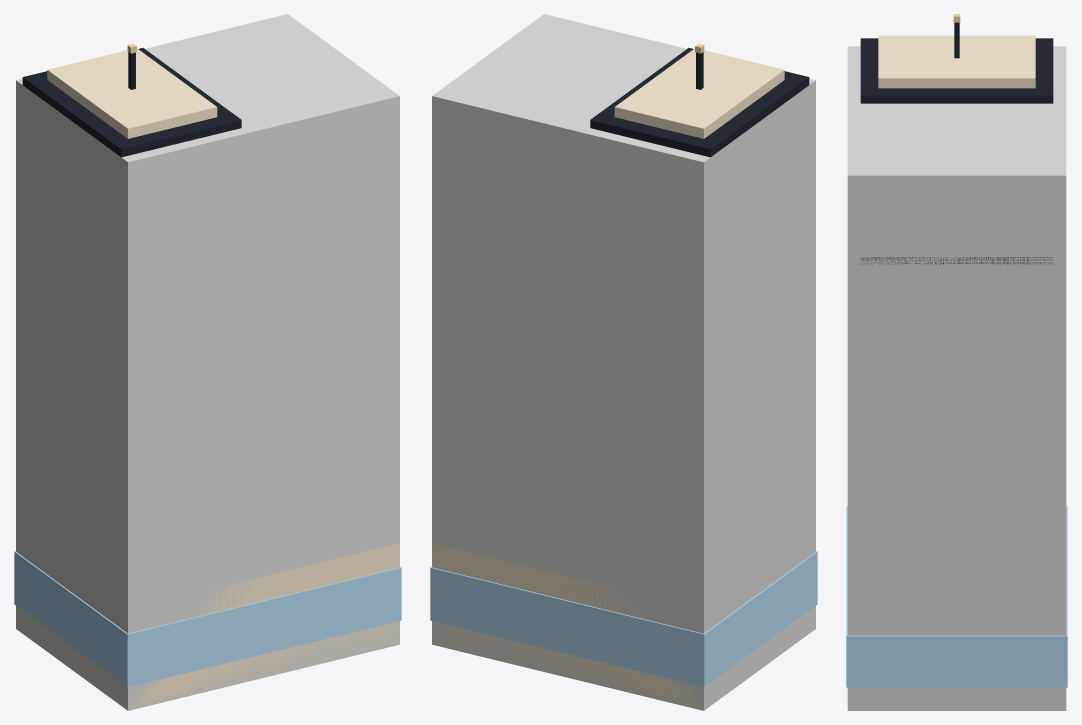
The model's file is skyline-twin.glb.
The picture shows the model from 3 angles, left to right: view 1: azimuth 30°, elevation 25°; view 2: azimuth 150°, elevation 25°; view 3: azimuth 270°, elevation 25°; orthographic projection. The views are drawn at different scales.
Visible parts, largest first — view 1: COL_body, skyline-twin; view 2: COL_body, skyline-twin; view 3: COL_body, skyline-twin.
Part boxes in pixels (box(x1,y1,x2,y2)): COL_body: box(16, 14, 399, 710); skyline-twin: box(14, 44, 401, 710); COL_body: box(432, 14, 815, 710); skyline-twin: box(430, 44, 817, 710); COL_body: box(847, 46, 1066, 710); skyline-twin: box(846, 14, 1067, 687).
Size of the model in its own units: 14.12 by 30 by 10.12.
